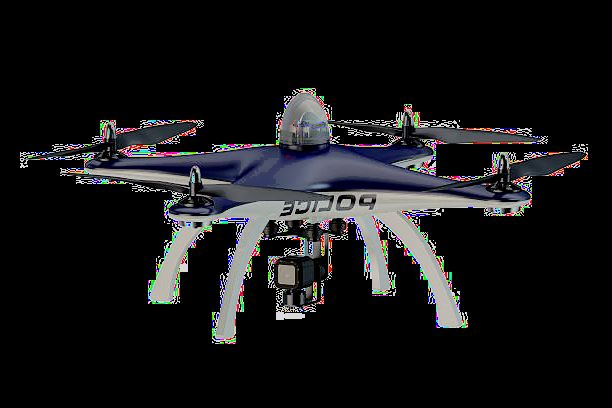Drone: (15, 83, 594, 348)
